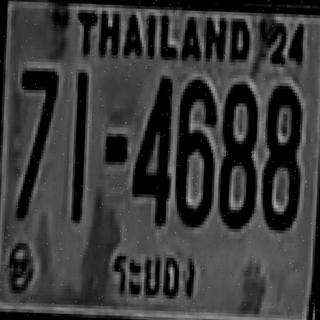N01: (70, 69, 88, 217)
N04: (130, 73, 172, 222)
N06: (174, 76, 215, 224)
N07: (14, 67, 56, 219)
N08: (260, 82, 301, 228), (217, 80, 256, 226)
P53: (103, 244, 200, 304)
